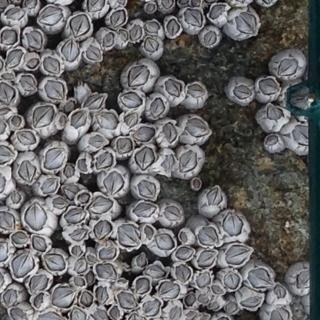Barnacle: (24, 201, 47, 229), (10, 252, 34, 277), (225, 243, 251, 265), (32, 104, 54, 128), (235, 11, 257, 35), (247, 268, 272, 289), (50, 286, 74, 307), (118, 223, 139, 247), (103, 170, 123, 195), (134, 146, 154, 171), (185, 118, 210, 138), (177, 150, 199, 172), (43, 79, 65, 101), (292, 124, 315, 145), (69, 14, 90, 37), (94, 111, 119, 130), (39, 6, 64, 25), (43, 147, 65, 168), (127, 66, 149, 87), (277, 57, 301, 76), (95, 261, 118, 280), (197, 226, 220, 245), (223, 212, 241, 236), (93, 218, 112, 240), (138, 178, 156, 201), (120, 91, 143, 109), (88, 196, 113, 212), (157, 280, 180, 297), (61, 38, 78, 61), (185, 8, 204, 28), (196, 251, 217, 269), (160, 122, 178, 143), (18, 159, 35, 181), (0, 82, 16, 105), (44, 253, 64, 271), (93, 151, 113, 169), (68, 226, 89, 243), (259, 78, 278, 96), (295, 269, 312, 289), (16, 129, 37, 145), (0, 210, 15, 232), (133, 202, 155, 217), (30, 273, 48, 291), (222, 271, 240, 289), (18, 74, 35, 93), (43, 55, 60, 74), (25, 30, 42, 49), (240, 295, 263, 309), (154, 233, 174, 249), (64, 208, 85, 223), (133, 126, 154, 141), (142, 299, 160, 316), (118, 291, 136, 308), (63, 183, 80, 201), (40, 177, 58, 194), (6, 50, 22, 69), (2, 289, 17, 309), (83, 94, 103, 109), (150, 96, 164, 117), (164, 204, 181, 221), (205, 188, 222, 205), (115, 137, 133, 153), (70, 110, 86, 128), (270, 305, 289, 320), (145, 264, 165, 278), (86, 45, 102, 62), (0, 29, 17, 45), (195, 271, 210, 289), (175, 263, 190, 281), (110, 9, 125, 27), (174, 245, 193, 259), (0, 144, 13, 164), (165, 80, 181, 96), (52, 195, 69, 210), (98, 245, 116, 259), (161, 153, 175, 171), (32, 236, 47, 252), (123, 110, 138, 126), (209, 4, 225, 19), (11, 231, 28, 245), (265, 105, 282, 119), (4, 8, 25, 19), (202, 30, 217, 45), (136, 277, 150, 293), (73, 257, 87, 273), (187, 84, 203, 98), (144, 37, 158, 53), (9, 307, 26, 320), (90, 307, 107, 320), (95, 286, 108, 303), (235, 85, 252, 98), (102, 31, 115, 48), (87, 0, 105, 12), (71, 306, 86, 320), (32, 291, 45, 307), (90, 135, 106, 148), (130, 24, 143, 40), (166, 18, 178, 35), (168, 306, 182, 320), (80, 291, 93, 306), (273, 283, 286, 298), (185, 308, 200, 320), (108, 305, 120, 320), (77, 158, 88, 173), (145, 22, 160, 33), (143, 224, 153, 240), (64, 99, 76, 112), (11, 115, 22, 129), (26, 57, 40, 68), (118, 29, 128, 44), (70, 244, 82, 256), (225, 300, 236, 313), (136, 252, 146, 266), (184, 293, 195, 305), (11, 190, 21, 203), (63, 164, 73, 177), (265, 135, 279, 144), (177, 231, 187, 243), (78, 192, 90, 202), (0, 106, 13, 115), (160, 0, 173, 9), (85, 270, 93, 284), (211, 284, 222, 294), (1, 71, 14, 79), (24, 0, 37, 8), (207, 301, 217, 310), (87, 254, 97, 263), (193, 177, 200, 189), (58, 115, 65, 127), (146, 3, 155, 12), (197, 294, 207, 302), (0, 0, 9, 8), (178, 0, 190, 5), (191, 0, 201, 6)
